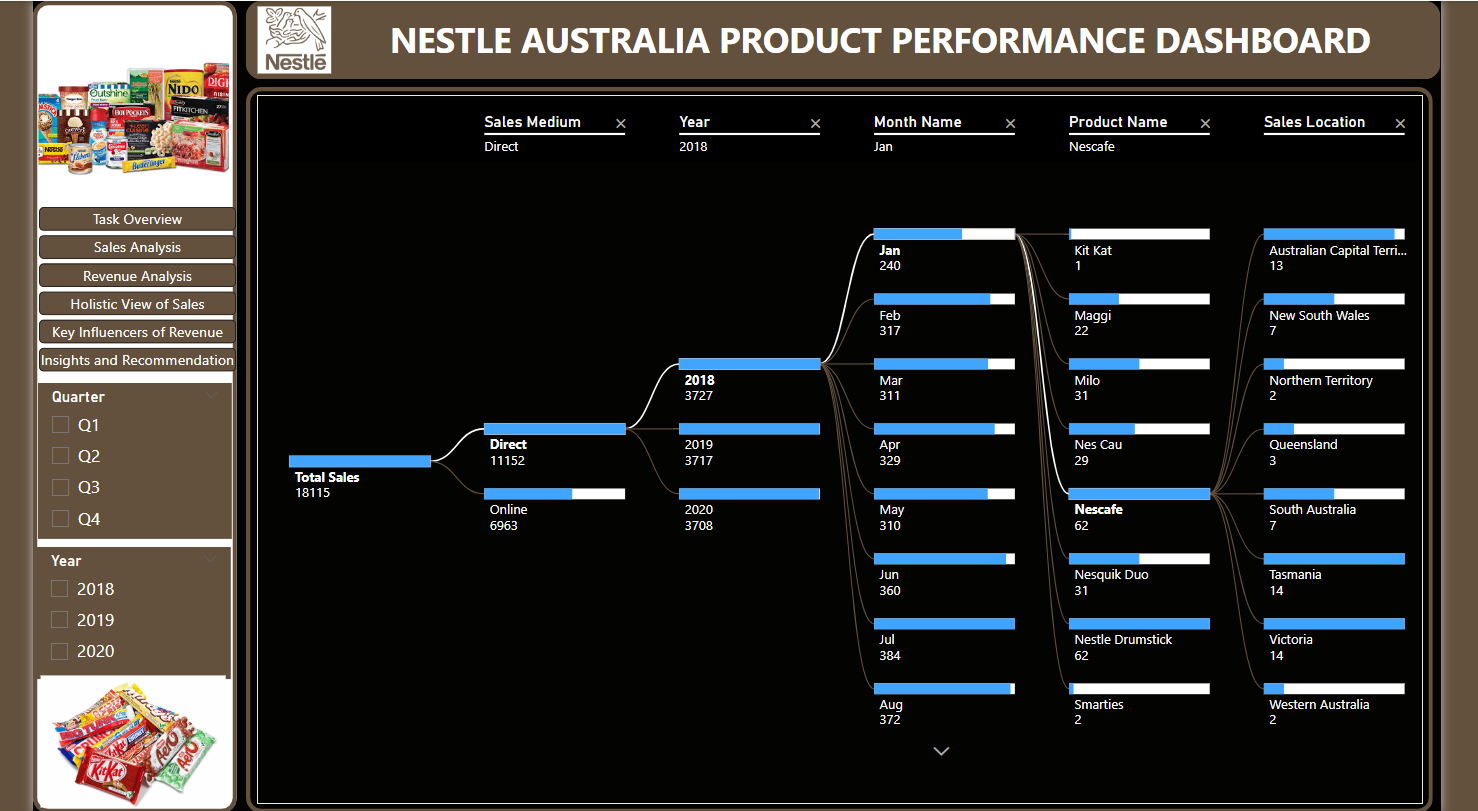

The dashboard page shown, as its layout file describes it:
{"tool":"powerbi","page":{"name":"Holistic View of Sales","canvas":[1300,750],"ordinal":3},"visuals":[{"type":"shape","box":[0,0,188.4,750],"z":0},{"type":"shape","box":[196.6,0,1103,72.3],"z":1000},{"type":"image","box":[188.4,0,105.2,72.3],"z":2000},{"type":"image","box":[0,45.7,185.7,130.8],"z":3000},{"type":"slicer","fields":{"Values":["Calendar Dim.Year"]},"box":[3.7,504,179.3,121.6],"z":4000},{"type":"slicer","fields":{"Values":["Calendar Dim.Quarter"]},"box":[4.6,353,179.3,143.6],"z":5000},{"type":"image","box":[0,618.3,185.7,131.7],"z":6000},{"type":"pageNavigator","box":[5.5,190.2,182.9,157.3],"z":7000},{"type":"textbox","box":[280.8,8.2,1003.4,64],"z":8000},{"type":"shape","box":[196.7,79.4,1096.4,670.6],"z":9000},{"type":"decompositionTreeVisual","fields":{"Analyze":["Calculations.Total Sales"],"ExplainBy":["Nestle sales.Sales Medium","Calendar Dim.Year","Calendar Dim.Month Name","Nestle sales.Product Name","Nestle sales.Sales Location"]},"box":[206.9,86.8,1077,654.9],"z":10000}]}

Visuals, with their boxes on the page's 1300x750 design canvas (x1, y1, x2, y2). These are canvas units, not pixel positions in the 1478x811 screenshot, which may show the page scaled, cropped or inside an application window:
shape: left=0, top=0, right=188, bottom=750
shape: left=197, top=0, right=1300, bottom=72
image: left=188, top=0, right=294, bottom=72
image: left=0, top=46, right=186, bottom=176
slicer - Calendar Dim.Year: left=4, top=504, right=183, bottom=626
slicer - Calendar Dim.Quarter: left=5, top=353, right=184, bottom=497
image: left=0, top=618, right=186, bottom=750
pageNavigator: left=6, top=190, right=188, bottom=348
textbox: left=281, top=8, right=1284, bottom=72
shape: left=197, top=79, right=1293, bottom=750
decompositionTreeVisual - Calculations.Total Sales x Nestle sales.Sales Medium: left=207, top=87, right=1284, bottom=742
